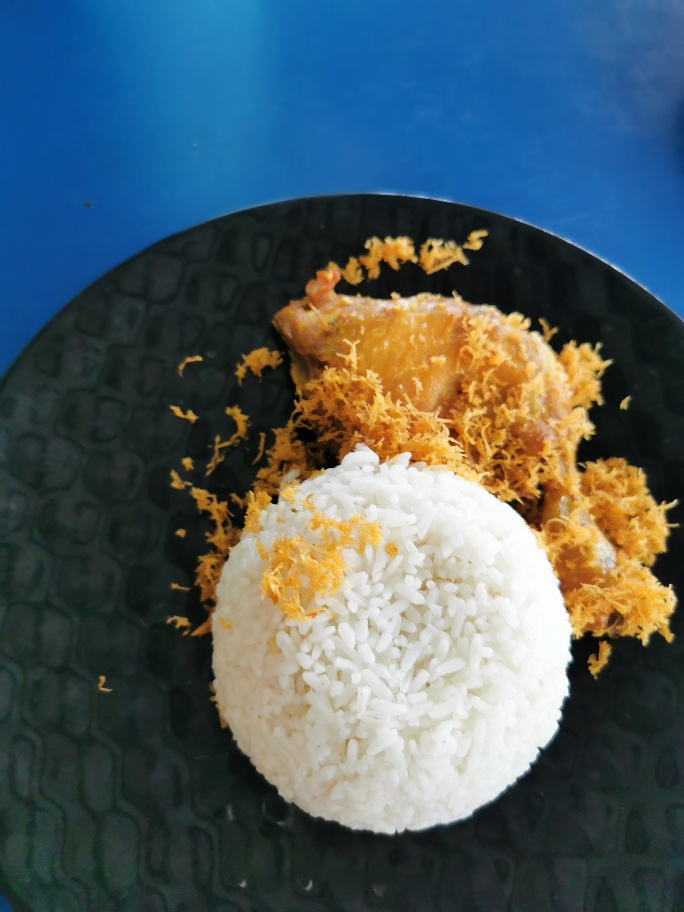ayam goreng: (271, 261, 657, 658)
nasi putih: (202, 454, 576, 838)
